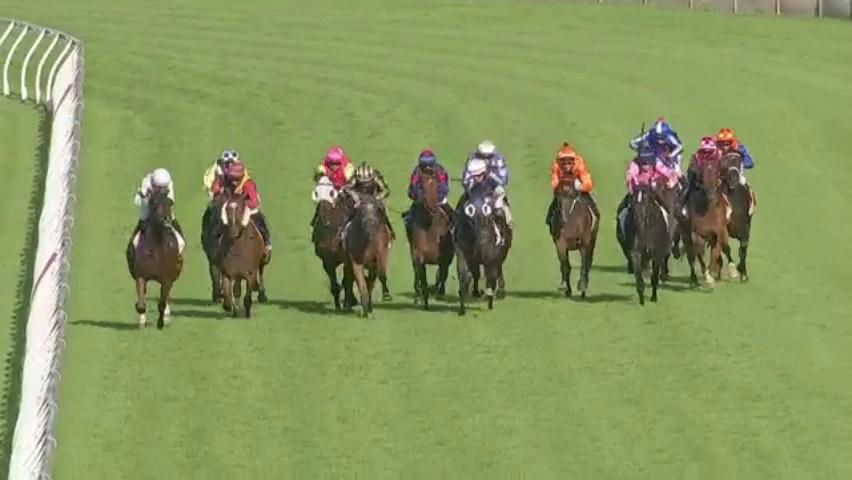racing-horse: (295, 131, 365, 323), (115, 160, 192, 334), (390, 141, 461, 318), (451, 156, 514, 322), (547, 135, 607, 308), (217, 165, 278, 330), (338, 154, 399, 317), (678, 127, 731, 308), (716, 116, 766, 298), (196, 134, 244, 311), (624, 154, 673, 314), (463, 131, 524, 257), (631, 109, 694, 228)
